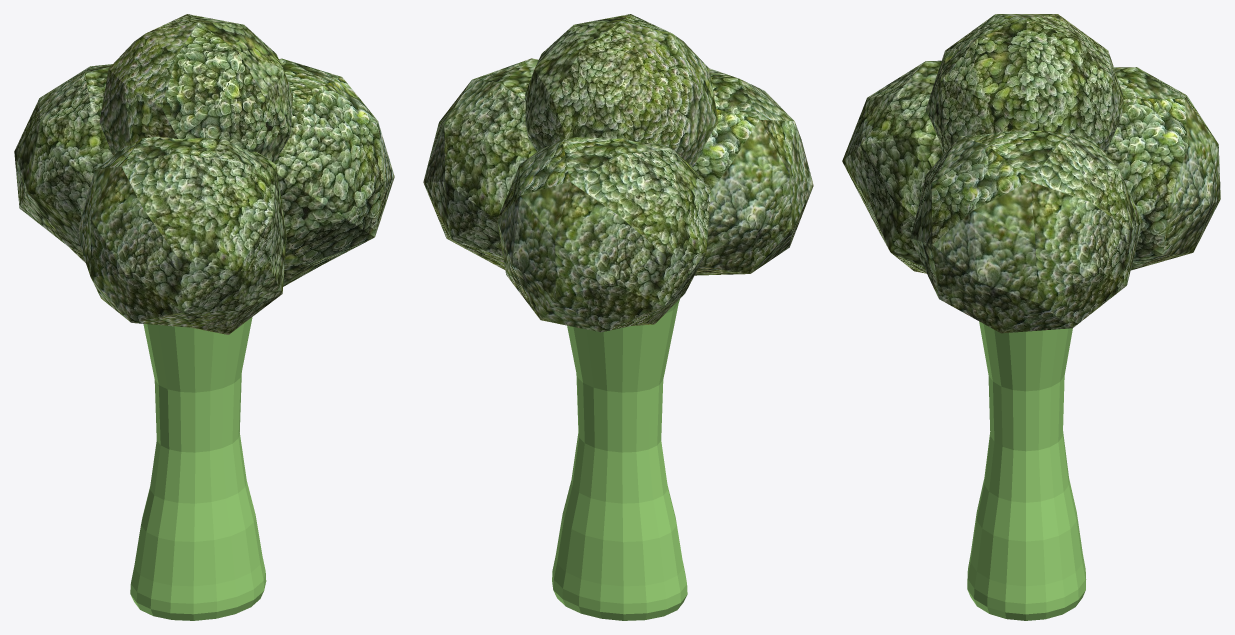
The model's file is BroccoliFixed.fbx.
3 views of the same model, side by side, from view 1: azimuth 30°, elevation 25°; view 2: azimuth 150°, elevation 25°; view 3: azimuth 270°, elevation 25° (orthographic).
Parts seen in each view (by area): view 1: Icosphere.002, Plane, Icosphere.003, Icosphere, Icosphere.001; view 2: Icosphere.001, Plane, Icosphere.003, Icosphere.002, Icosphere; view 3: Icosphere, Plane, Icosphere.003, Icosphere.001, Icosphere.002.
Boxes of the visible parts, <box> form: Icosphere.002: <box>76,136,286,334</box>; Plane: <box>130,317,266,620</box>; Icosphere.003: <box>99,14,292,162</box>; Icosphere: <box>274,58,394,286</box>; Icosphere.001: <box>14,64,112,262</box>; Icosphere.001: <box>497,137,710,332</box>; Plane: <box>552,299,687,620</box>; Icosphere.003: <box>525,14,718,166</box>; Icosphere.002: <box>693,68,813,275</box>; Icosphere: <box>423,58,538,269</box>; Icosphere: <box>910,130,1142,333</box>; Plane: <box>967,321,1086,620</box>; Icosphere.003: <box>926,14,1123,154</box>; Icosphere.001: <box>1105,67,1220,270</box>; Icosphere.002: <box>842,60,942,273</box>.
Bounding box in the file's own units: 549 × 949 × 565.
